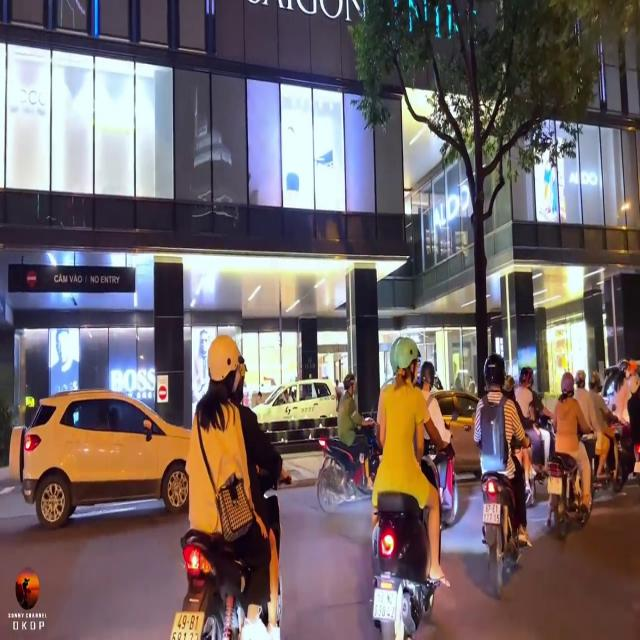bien_trang: (372, 586, 398, 627), (171, 611, 205, 640), (481, 499, 503, 526), (545, 470, 562, 499)
